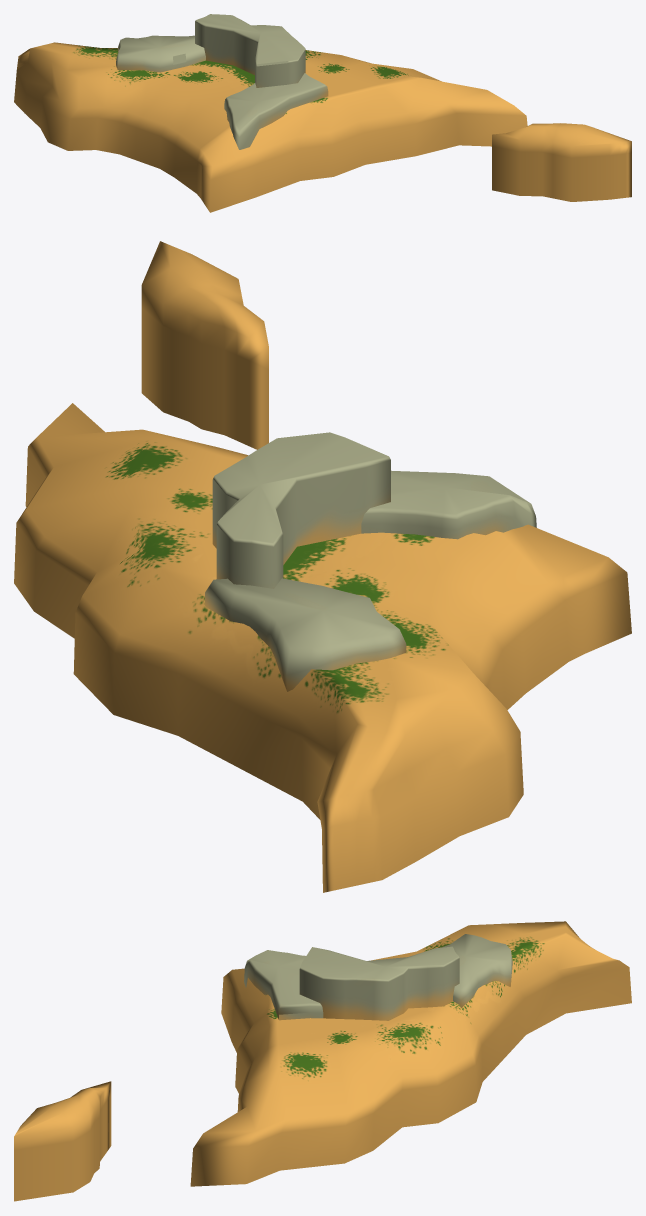
The model's file is Ile Sud .fbx.
The picture shows the model from 3 angles, top to bottom: view 1: azimuth 30°, elevation 25°; view 2: azimuth 150°, elevation 25°; view 3: azimuth 270°, elevation 25°; orthographic projection. The views are drawn at different scales.
Parts seen in each view (by area): view 1: ile_Sud_Mid; view 2: ile_Sud_Mid; view 3: ile_Sud_Mid.
Boxes of the visible parts, bbox=[...] form: ile_Sud_Mid: bbox=[14, 14, 631, 212]; ile_Sud_Mid: bbox=[14, 241, 631, 892]; ile_Sud_Mid: bbox=[14, 921, 631, 1201].
Size of the model in its own units: 160 by 39.6 by 193.
Materials: 1 (1 with a texture image).
